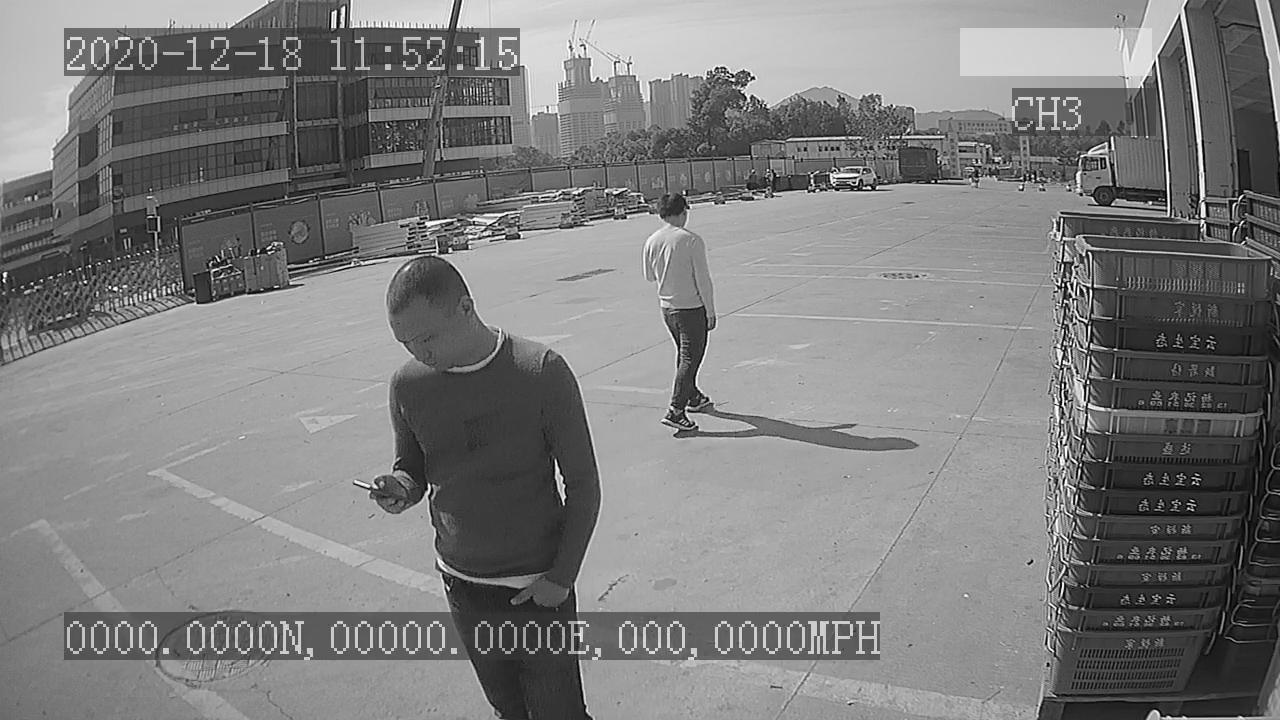person: (636, 188, 724, 440)
